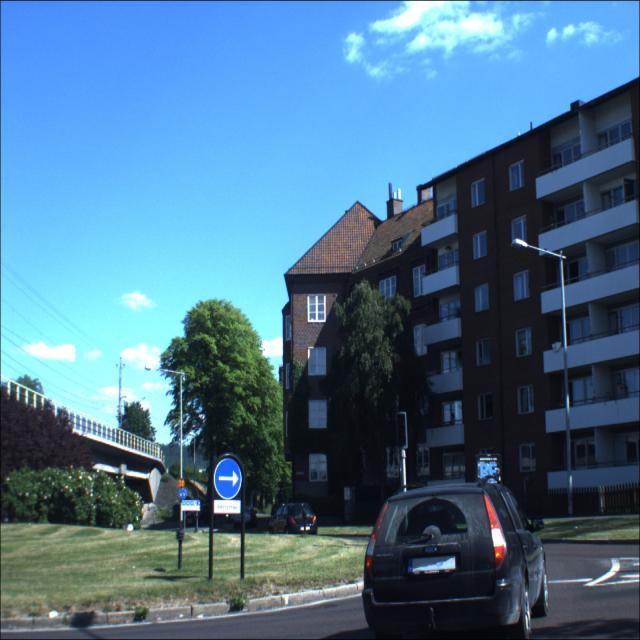Turn Right: (209, 458, 250, 506)
